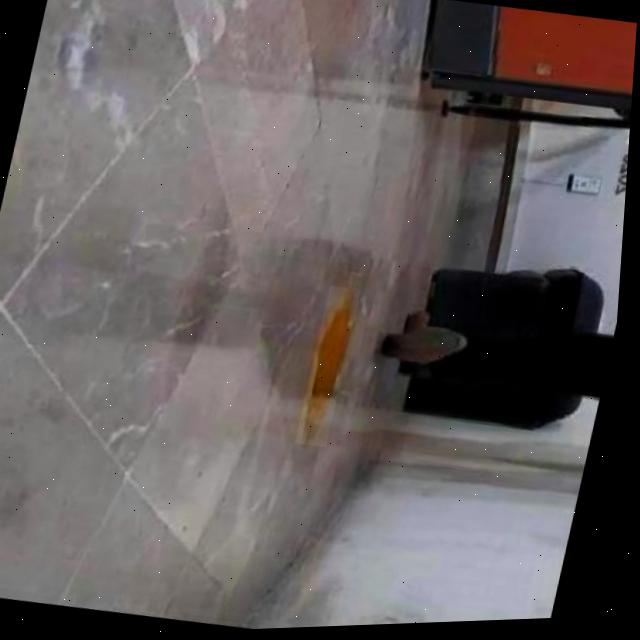spillage: (305, 291, 359, 446)
